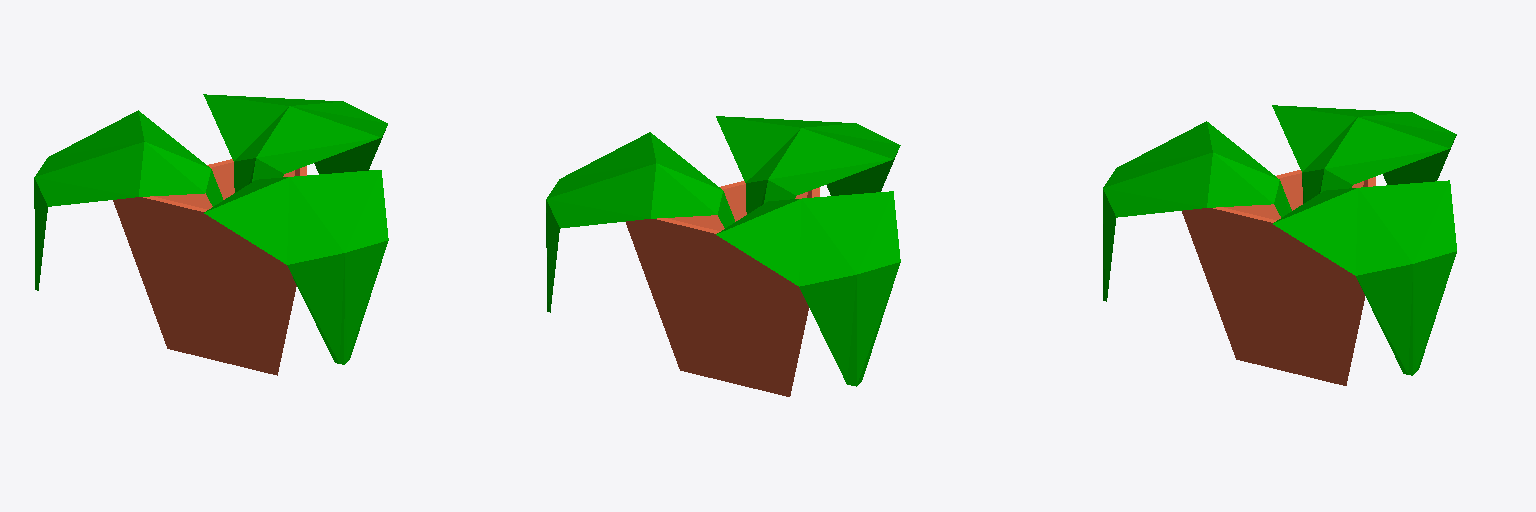
File: Plant.obj
3 renders of one model, left to right at view 1: azimuth 30°, elevation 25°; view 2: azimuth 150°, elevation 25°; view 3: azimuth 270°, elevation 25°, orthographic.
Visible parts, largest first — view 1: object_3, object_2, object_4, object_1; view 2: object_3, object_4, object_1, object_2; view 3: object_3, object_1, object_2, object_4.
Boxes of the visible parts, <box> form: object_3: <box>113,159,306,375</box>; object_2: <box>204,170,388,364</box>; object_4: <box>34,110,222,290</box>; object_1: <box>203,94,387,192</box>; object_3: <box>626,181,819,396</box>; object_4: <box>716,191,900,386</box>; object_1: <box>546,132,734,312</box>; object_2: <box>716,116,900,213</box>; object_3: <box>1182,170,1375,385</box>; object_1: <box>1273,180,1456,375</box>; object_2: <box>1103,121,1291,301</box>; object_4: <box>1272,105,1456,203</box>.
Bounding box in the file's own units: 26.77 × 15.57 × 24.13.